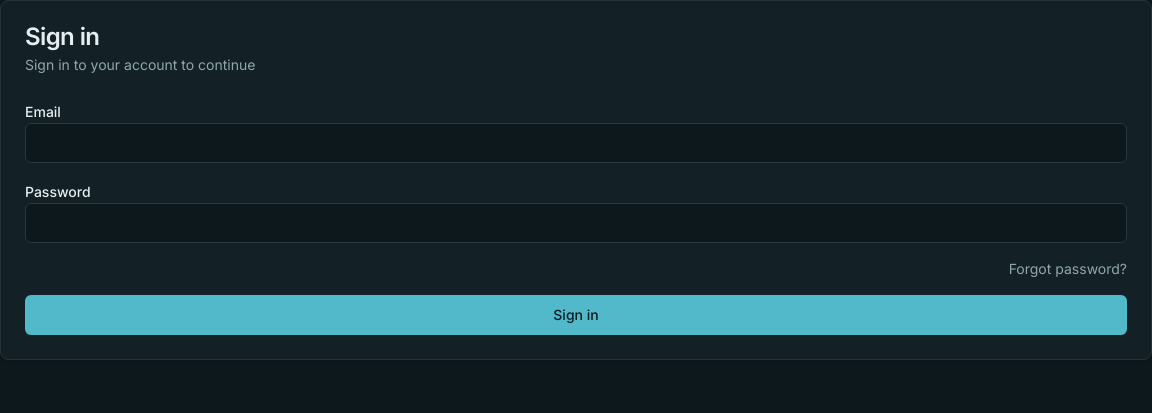
LoginForm › shows generic error on 401
Type "a@b.com" into the field labelled "Email" at (576, 143), box [25,123,1127,163]
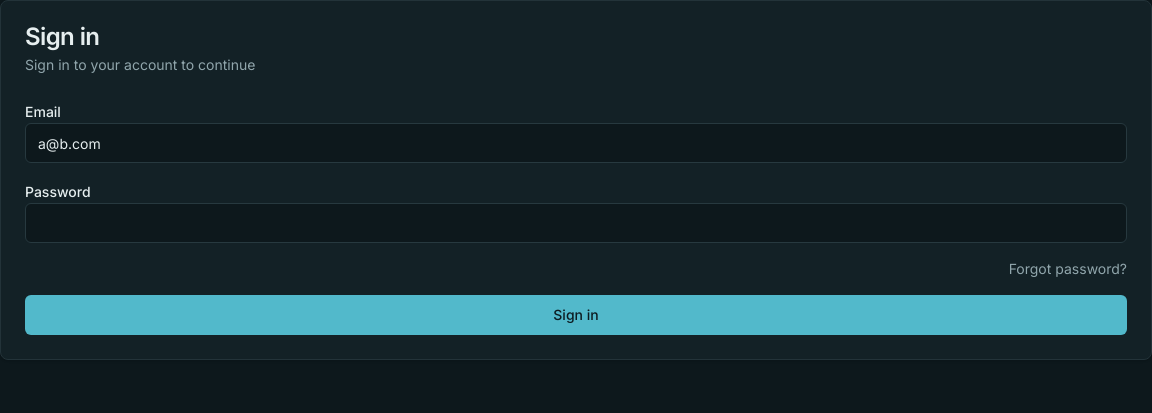
Type "Password1!" into the password field labelled "Password" at (576, 223), box [25,203,1127,243]
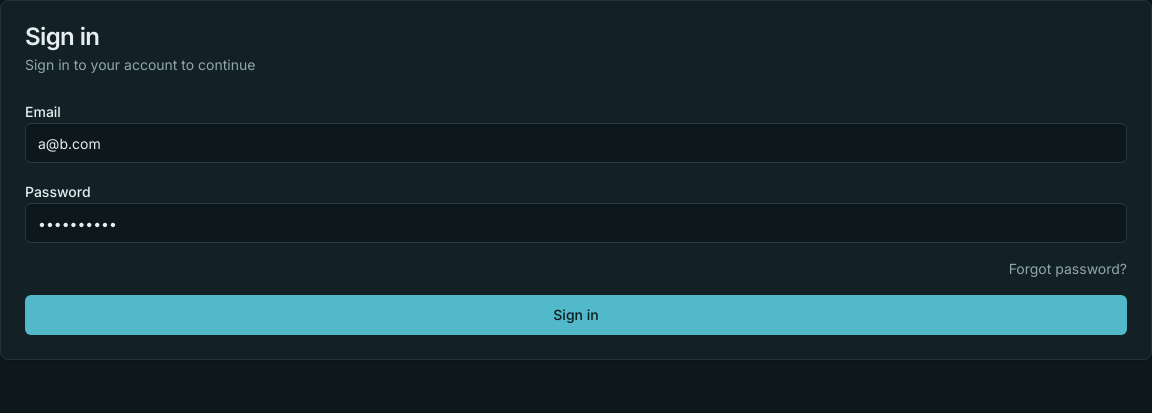
Submit the form, box [25,99,1127,335]
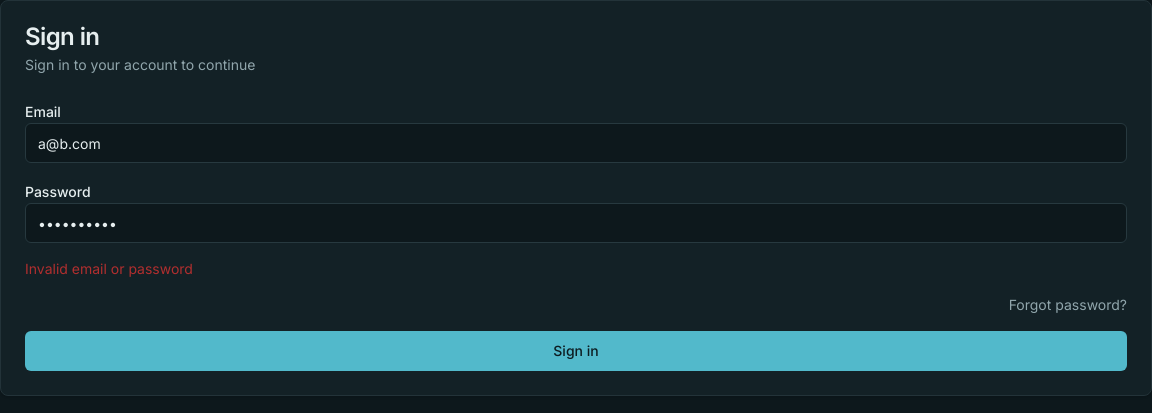
Result: the text "Invalid email or password" is shown at [25,260,193,277]
